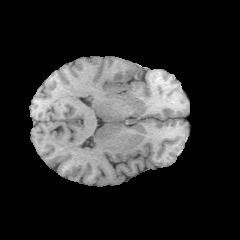glioma: (111, 58, 141, 91)
